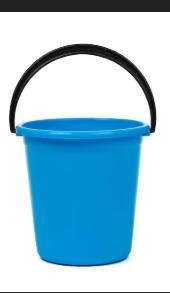SEAU: (0, 21, 162, 286)
